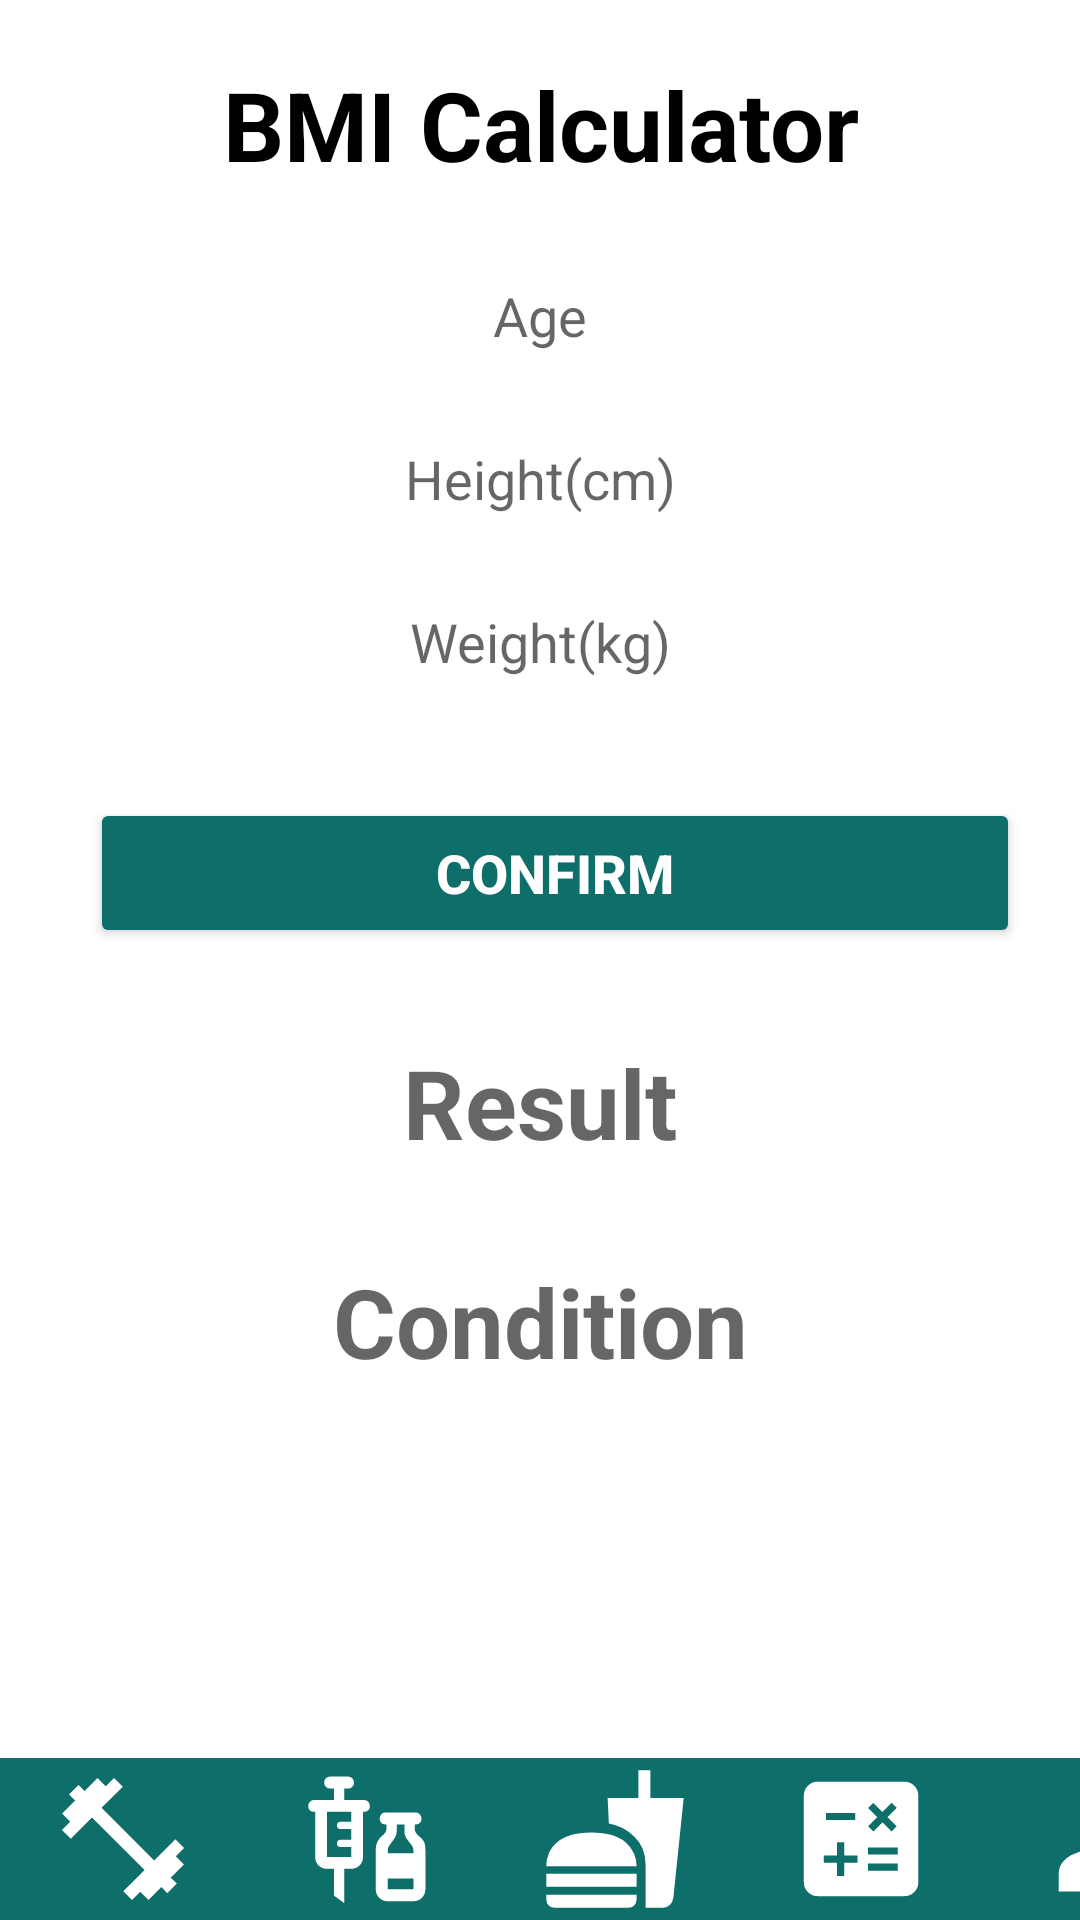

Where to tap for icons on this 1080*1920 app screen, as (x,y):
calculate: (861,1839)
fastfood: (615,1839)
fitness center: (123,1839)
vaccines: (367,1839)
